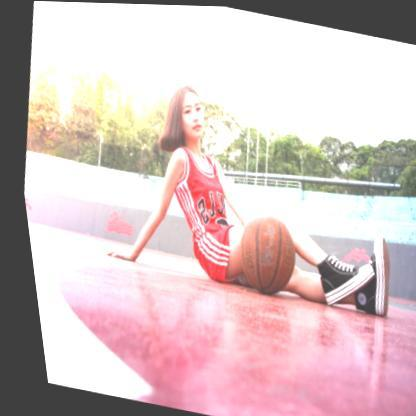basketball: (222, 207, 299, 297)
